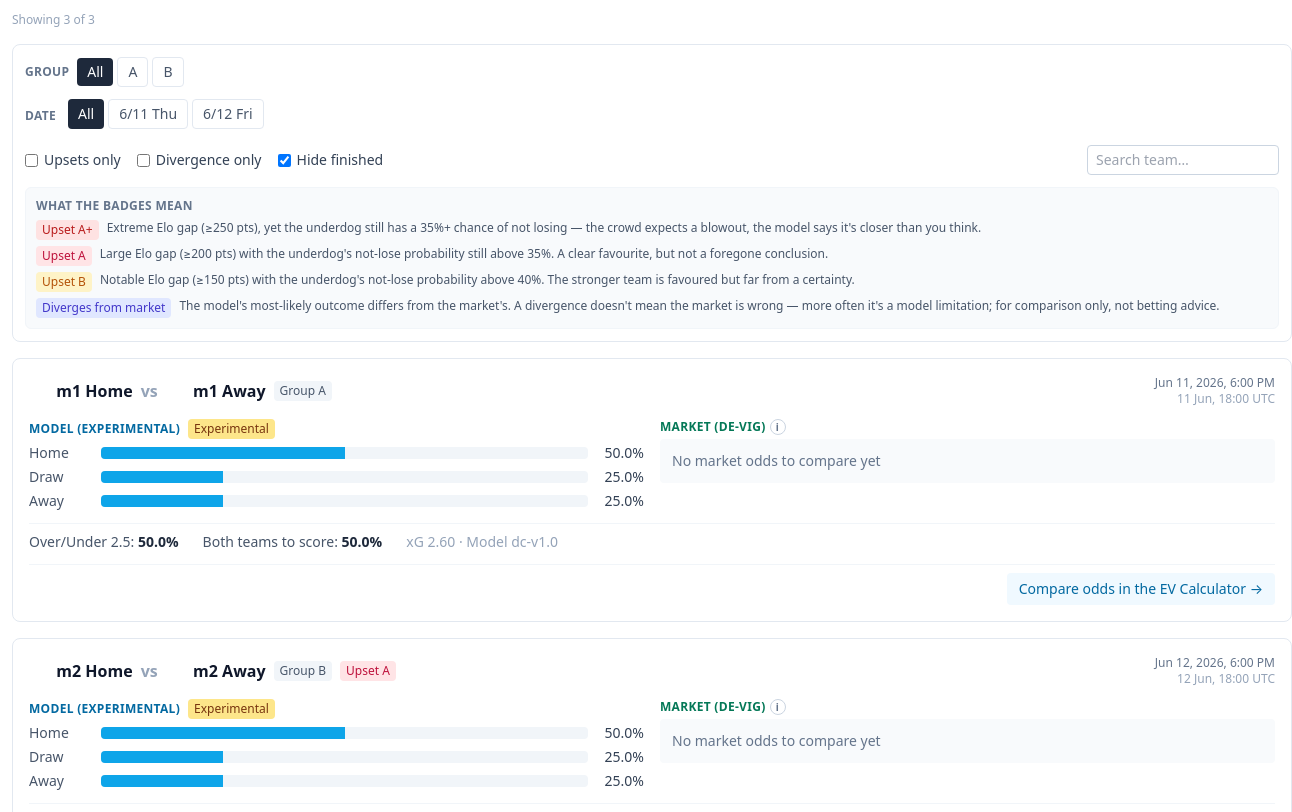
MatchFilters (client-side filter, Issue 7) › shows a no-results message (not a crash) when filters exclude everything
Click the button "A".
click(133, 72)  # box [118,57,148,87]
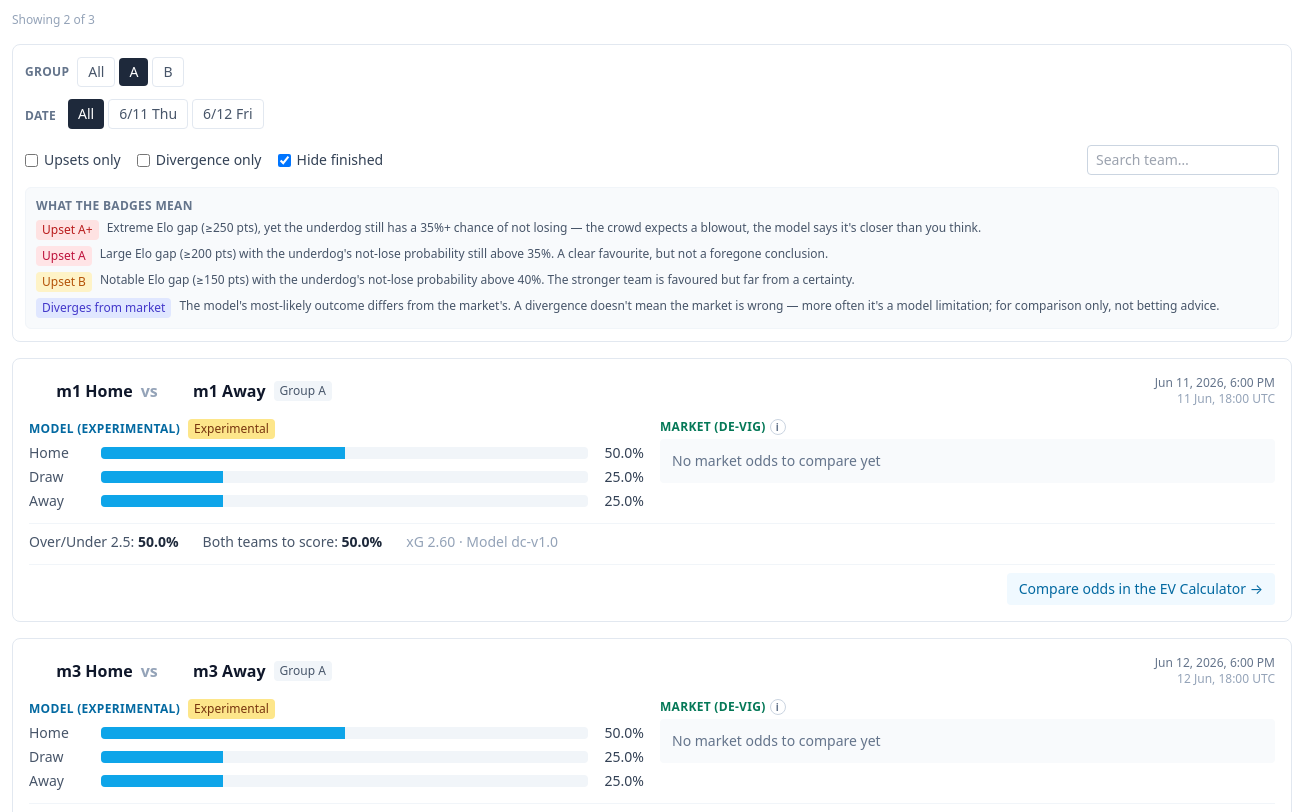
Click the checkbox labelled "Upsets only".
click(32, 160)  # box [25,154,38,166]
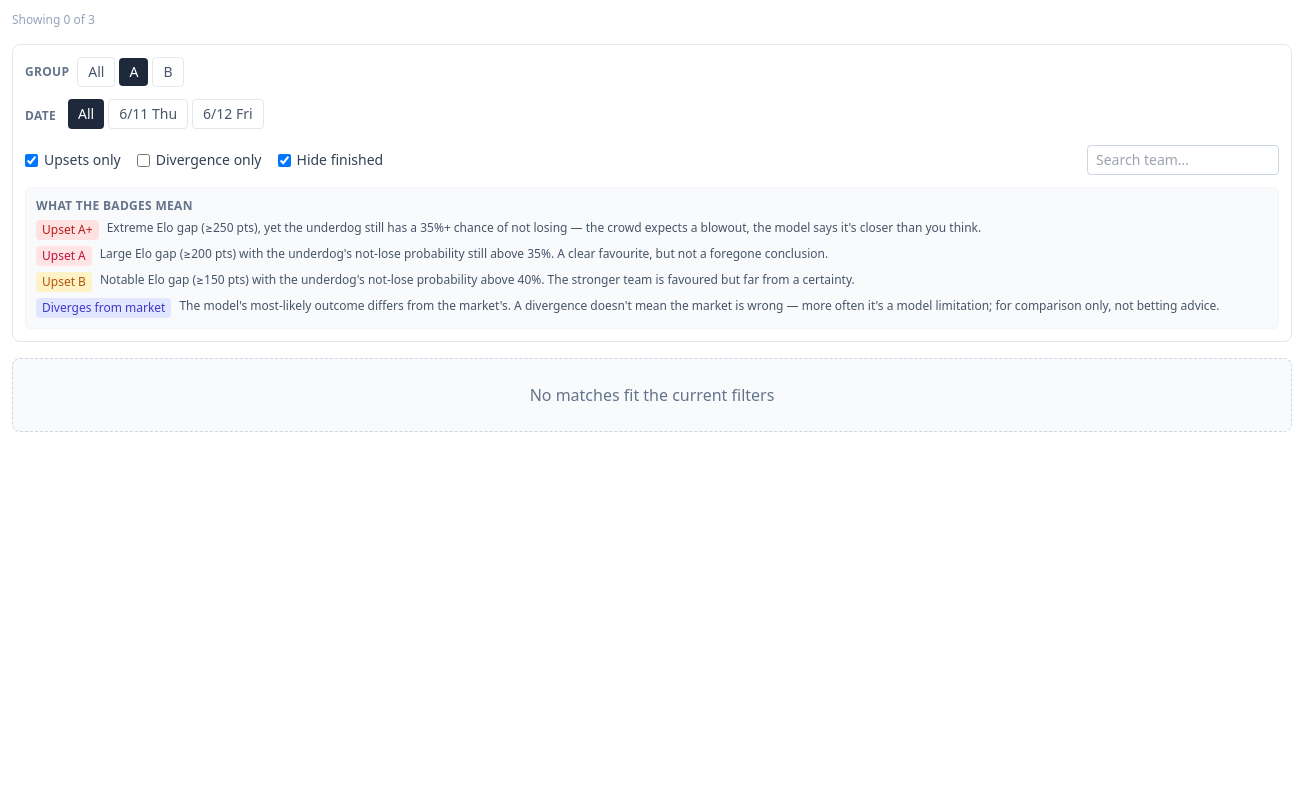
expect the text "No matches fit the current filters" is shown: met, box [12,358,1291,432]
